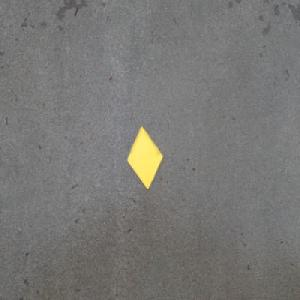PlasticPart: (126, 124, 164, 192)
